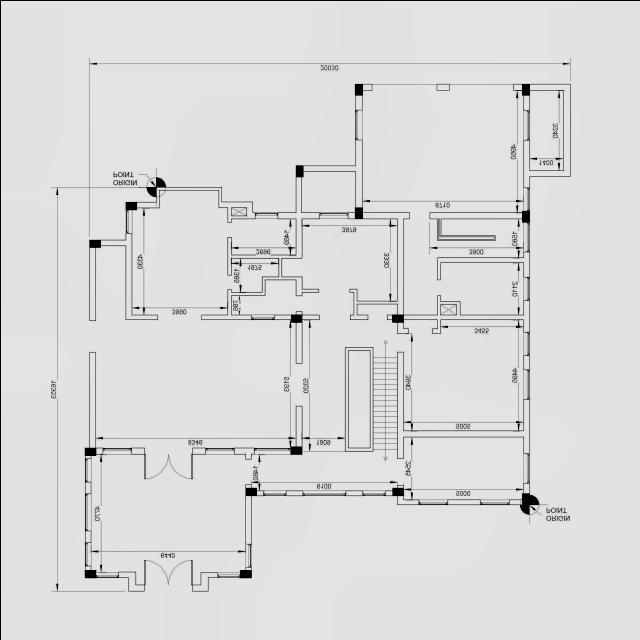Column: (294, 164, 302, 177), (239, 569, 251, 577), (244, 487, 256, 495), (391, 487, 403, 495), (521, 492, 529, 504), (290, 446, 302, 454), (290, 314, 302, 322), (391, 314, 403, 322), (521, 210, 529, 222), (354, 206, 362, 218), (521, 83, 529, 95), (354, 83, 362, 95), (88, 239, 100, 247), (84, 569, 95, 577), (84, 447, 95, 455), (125, 201, 136, 209)
Double-Door: (143, 558, 192, 590), (144, 446, 192, 478)
Staircase: (372, 346, 397, 458)
Window: (302, 490, 346, 496), (102, 446, 132, 454), (354, 109, 362, 139), (84, 492, 90, 530), (204, 447, 234, 453), (253, 448, 289, 453), (418, 498, 448, 504), (479, 498, 509, 504), (522, 452, 528, 482), (522, 368, 528, 398), (522, 222, 528, 252), (522, 110, 528, 140), (318, 212, 348, 218), (125, 209, 132, 233), (84, 542, 90, 566), (84, 458, 90, 482), (250, 314, 274, 320), (244, 543, 250, 567), (262, 490, 286, 496), (361, 490, 385, 496), (522, 331, 528, 355), (522, 276, 528, 300), (522, 186, 528, 210), (217, 571, 240, 577), (254, 212, 277, 218), (96, 571, 118, 577)
